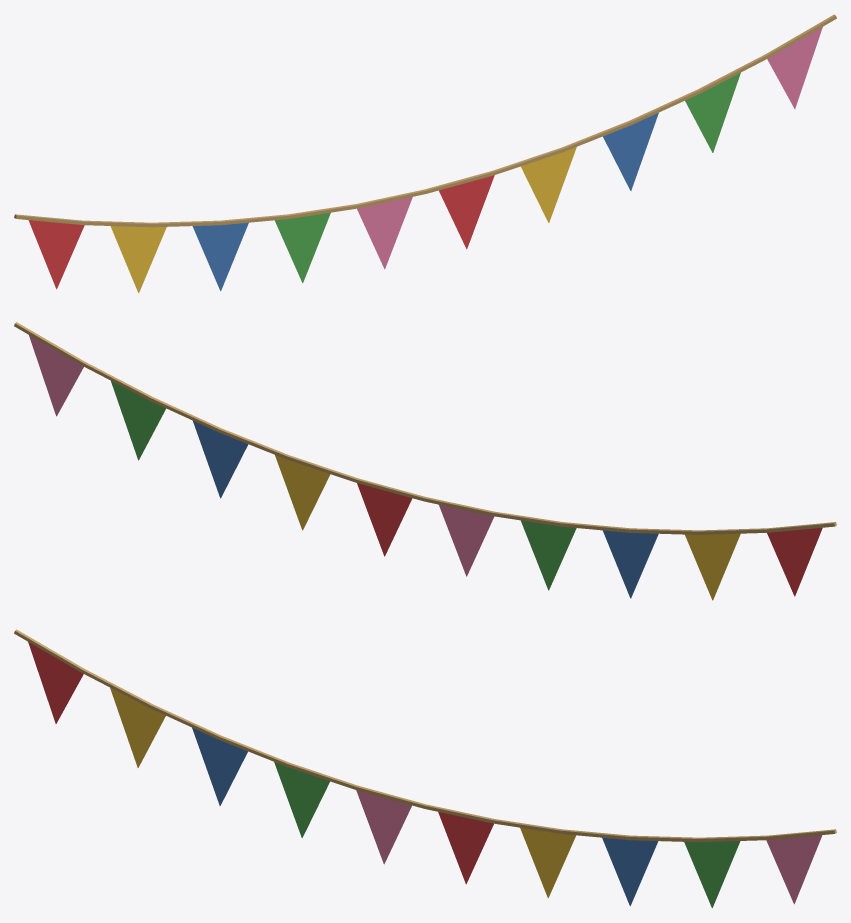
File: vil_bunting_v01.glb
3 views of the same model, one above another, from view 1: azimuth 30°, elevation 25°; view 2: azimuth 150°, elevation 25°; view 3: azimuth 330°, elevation 25° (orthographic).
Parts seen in each view (by area): view 1: bunting; view 2: bunting; view 3: bunting.
Boxes of the visible parts, left/top/right/bottom form: bunting: left=14, top=14, right=836, bottom=292; bunting: left=14, top=322, right=836, bottom=600; bunting: left=14, top=629, right=836, bottom=907.
Size of the model in its own units: 4 by 0.6719 by 0.015.
